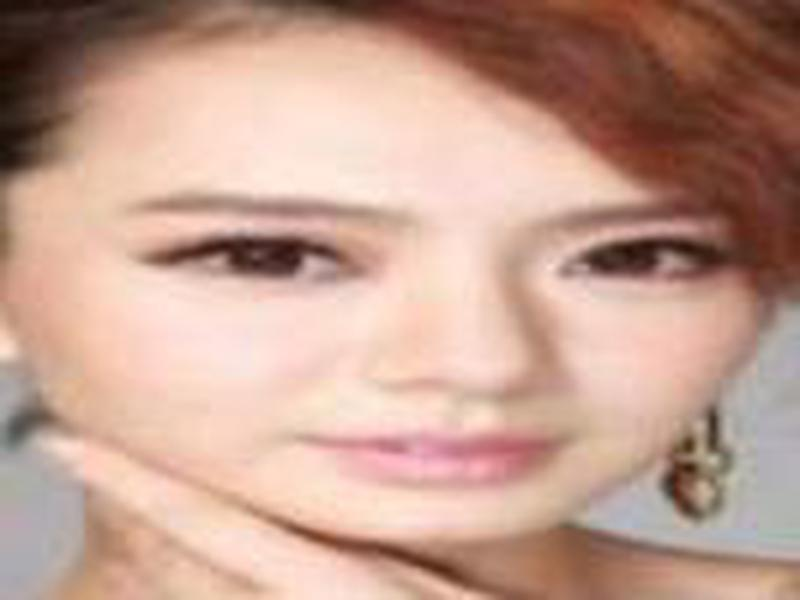without_mask: (53, 97, 746, 553)
